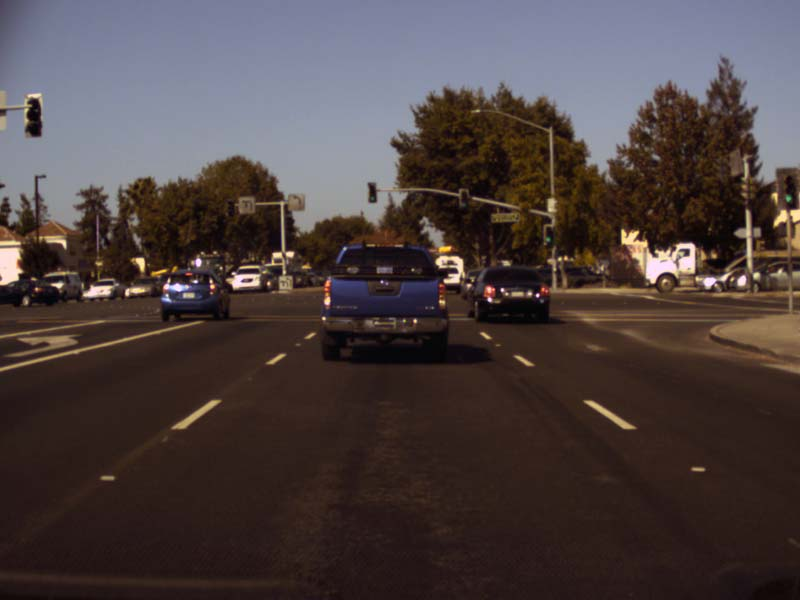Green: (783, 174, 797, 209), (366, 181, 377, 203), (544, 226, 553, 245), (460, 191, 467, 210)
